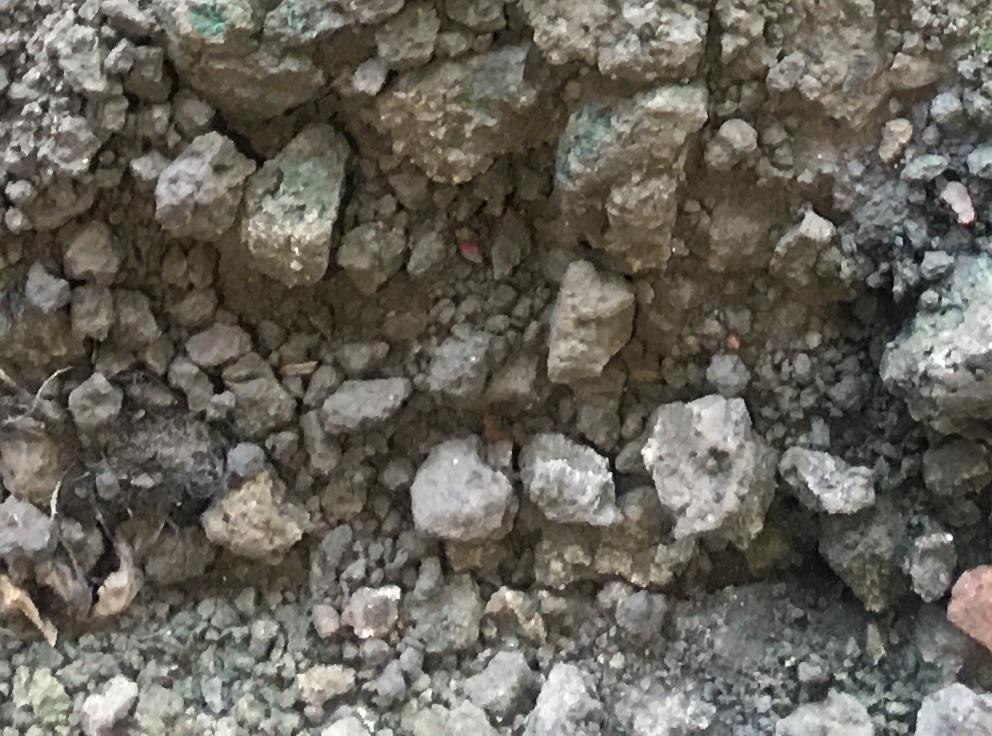block: (563, 75, 697, 279), (640, 392, 773, 554), (879, 252, 992, 438), (248, 119, 348, 286), (403, 434, 518, 548), (520, 425, 619, 536), (548, 263, 633, 386), (152, 126, 243, 236)
